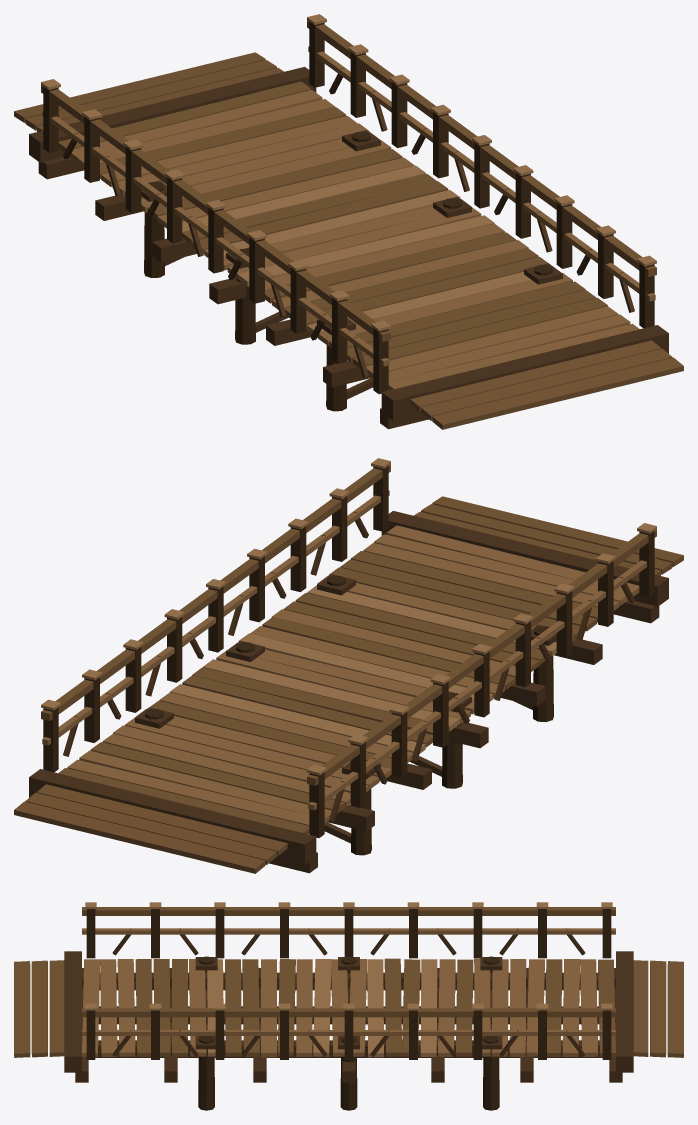
Rendered from brug.glb.
3 renders of one model, top to bottom at view 1: azimuth 30°, elevation 25°; view 2: azimuth 150°, elevation 25°; view 3: azimuth 270°, elevation 25°, orthographic. The views are drawn at different scales.
Visible parts, largest first — view 1: Brug_Hout2, Brug_Hout1, Brug_Balk, Brug_Paal, Brug_Hout3; view 2: Brug_Hout2, Brug_Hout1, Brug_Balk, Brug_Paal, Brug_Hout3; view 3: Brug_Hout2, Brug_Hout1, Brug_Balk, Brug_Paal, Brug_Hout3.
Part boxes in pixels (x1,y1,x2,y2): Brug_Hout2: (14, 20, 683, 429); Brug_Hout1: (42, 46, 655, 390); Brug_Balk: (29, 67, 668, 429); Brug_Paal: (43, 22, 654, 411); Brug_Hout3: (41, 14, 656, 337); Brug_Hout2: (14, 464, 683, 873); Brug_Hout1: (42, 490, 655, 825); Brug_Balk: (29, 511, 668, 873); Brug_Paal: (43, 466, 654, 855); Brug_Hout3: (41, 458, 656, 775); Brug_Hout2: (14, 907, 683, 1057); Brug_Hout1: (82, 928, 615, 1057); Brug_Balk: (64, 928, 633, 1082); Brug_Paal: (86, 909, 611, 1110); Brug_Hout3: (85, 902, 612, 1057).
Bounding box in the file's own units: 5.66 × 2.78 × 15.06.
